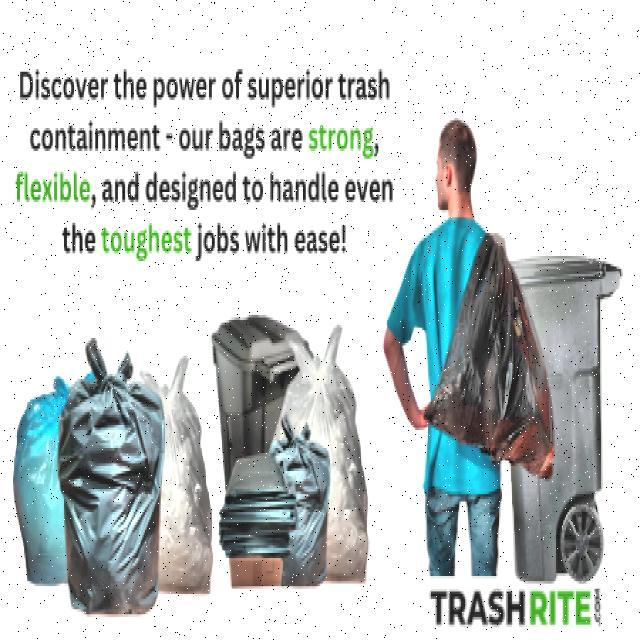Trashbag: (41, 344, 176, 616), (424, 223, 563, 482), (276, 413, 336, 588)
